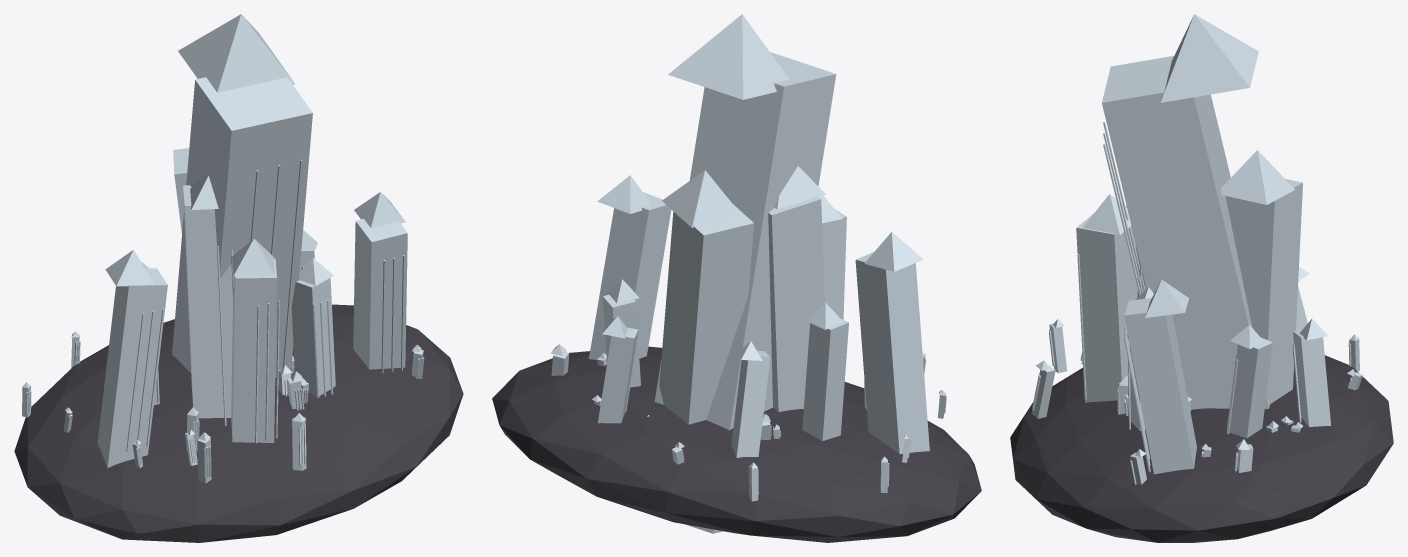
File: borax.glb
The picture shows the model from 3 angles, left to right: view 1: azimuth 30°, elevation 25°; view 2: azimuth 150°, elevation 25°; view 3: azimuth 270°, elevation 25°; orthographic projection. The views are drawn at different scales.
Visible parts, largest first — view 1: Borax; view 2: Borax; view 3: Borax.
Part boxes in pixels (box(x1,y1,x2,y2)): Borax: box(14, 14, 463, 542); Borax: box(492, 14, 981, 542); Borax: box(1010, 14, 1393, 542).
Size of the model in its own units: 3.96 by 4.27 by 3.03.
